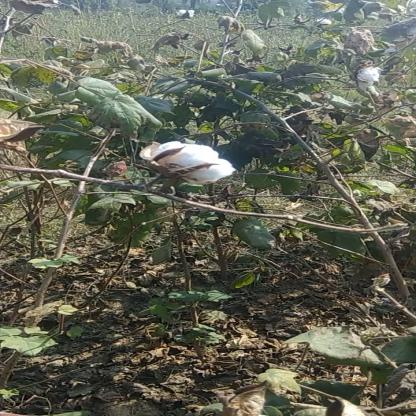cotton_ready: (143, 136, 248, 198)
